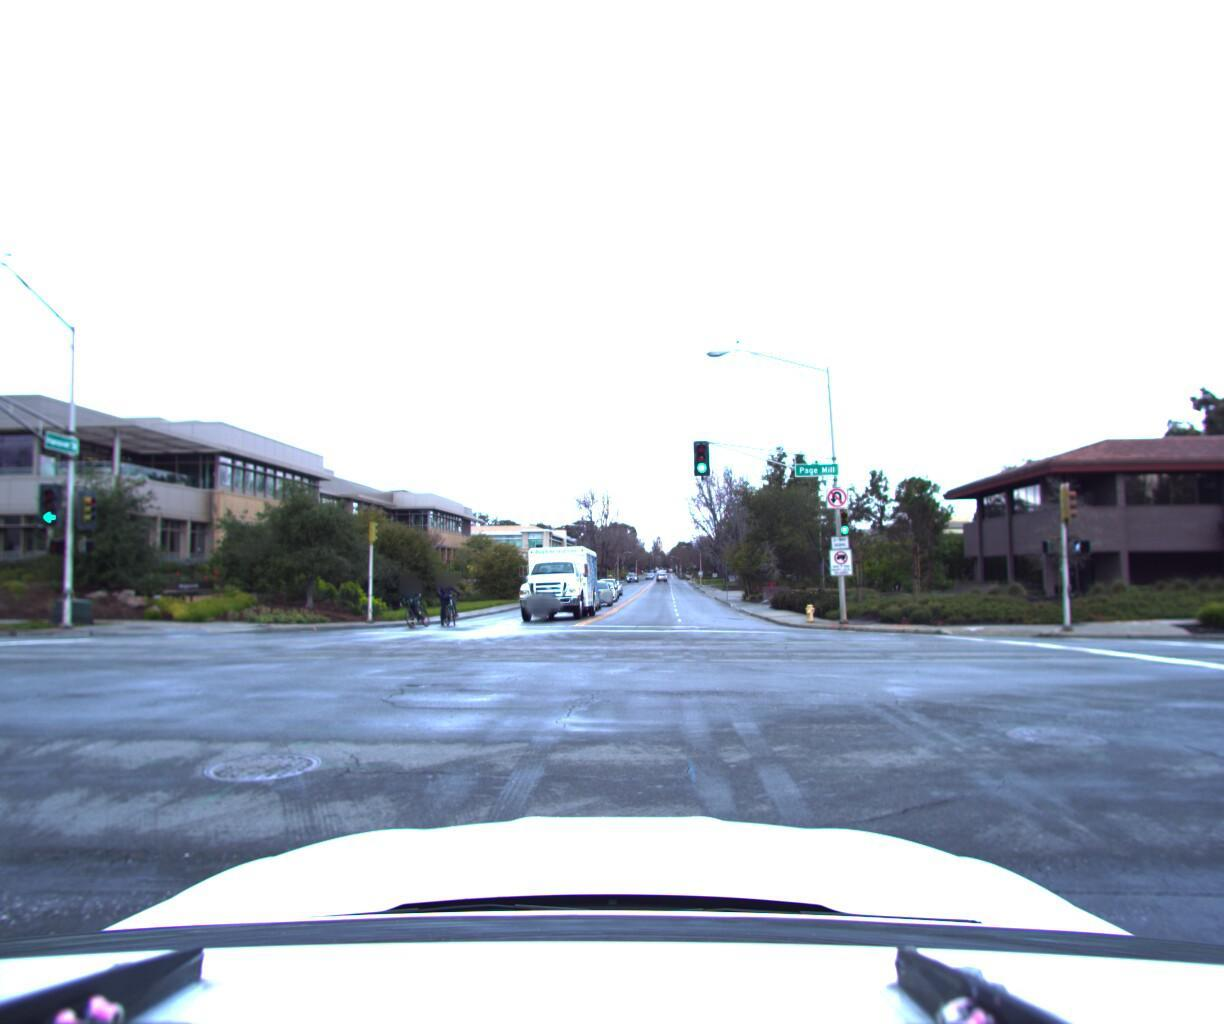bicycle: (394, 576, 439, 631), (435, 574, 460, 628)
car: (583, 576, 618, 607)
truck: (508, 538, 606, 625)
